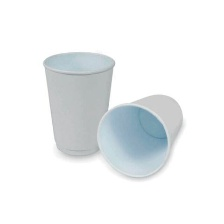paper_cup: (38, 46, 119, 159), (92, 87, 187, 181)
